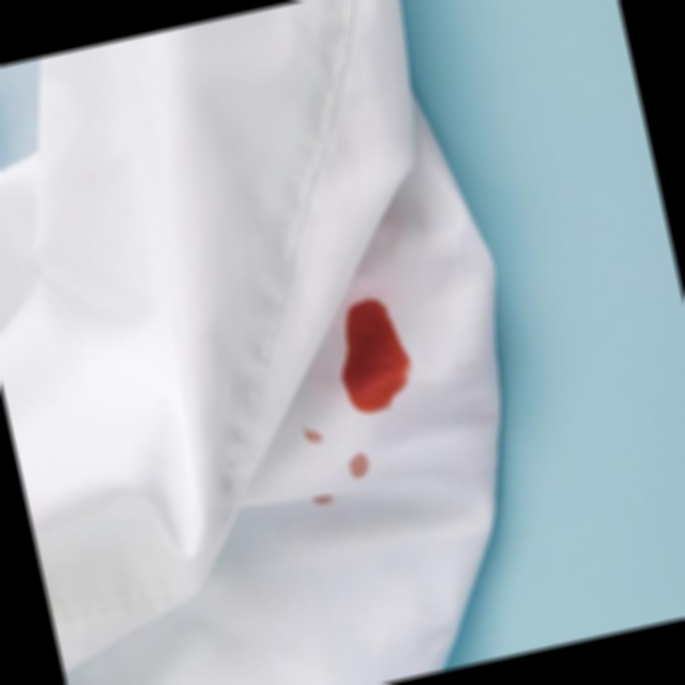blood: (317, 285, 424, 418), (291, 411, 382, 513)
